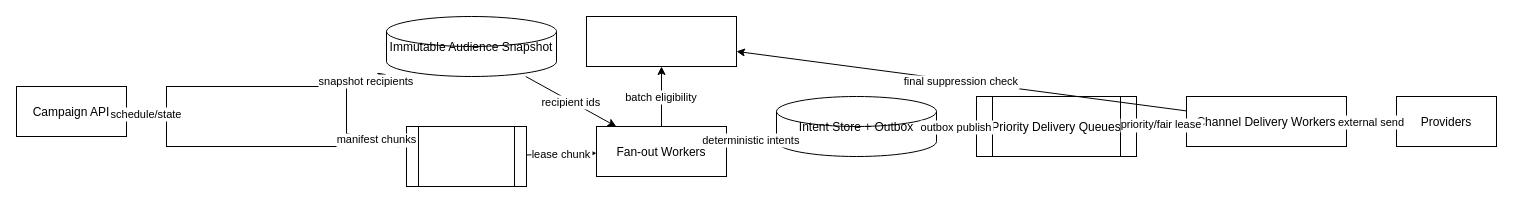
Image size: 1513x203. Some labels were removed from this diagram. The shapes that lost their labels are listed below. From the top down, each one's centre as x and y in pixels, then its label:
[661,41]: Preferences + Caps
[256,116]: Campaign Orchestrator + Stop Flag
[466,156]: Chunk Queue
